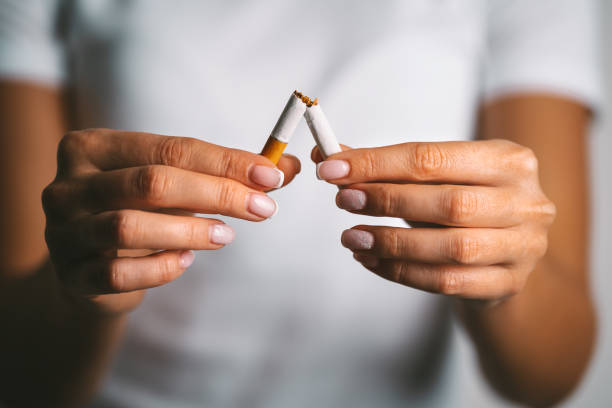cigarette: (261, 90, 310, 166), (301, 99, 343, 160)
